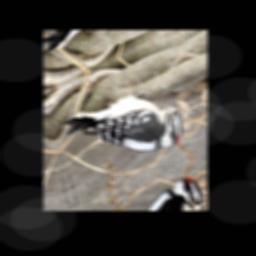Woodpecker: (62, 68, 187, 190)
